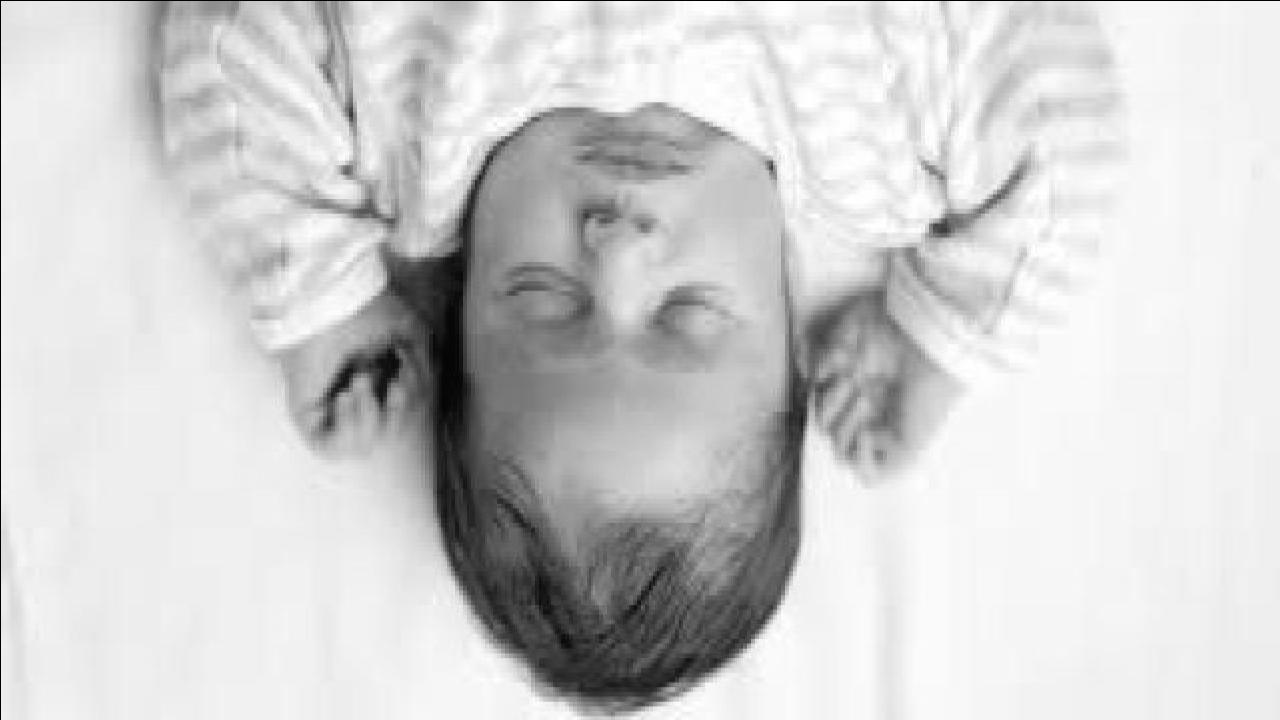hand: (797, 292, 975, 497), (276, 292, 436, 482)
